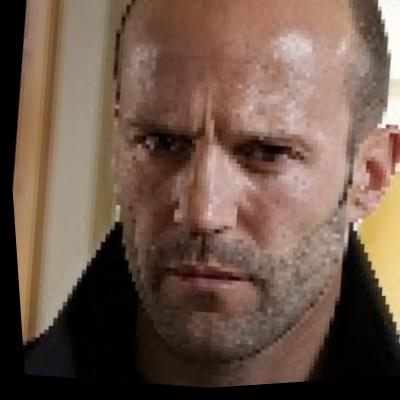angry: (77, 0, 388, 368)
